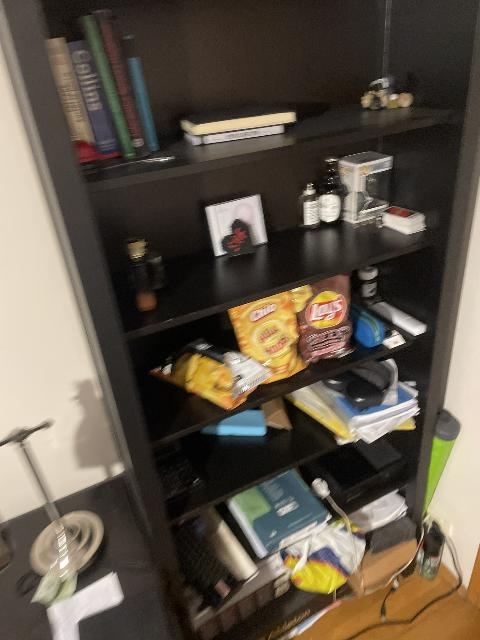Chio Cascaval 125g: (151, 342, 256, 413)
Chio Hula Hoops Cheese 70g: (228, 289, 309, 379)
Lays Beef Grilled Ribs 125g: (295, 276, 354, 362)
